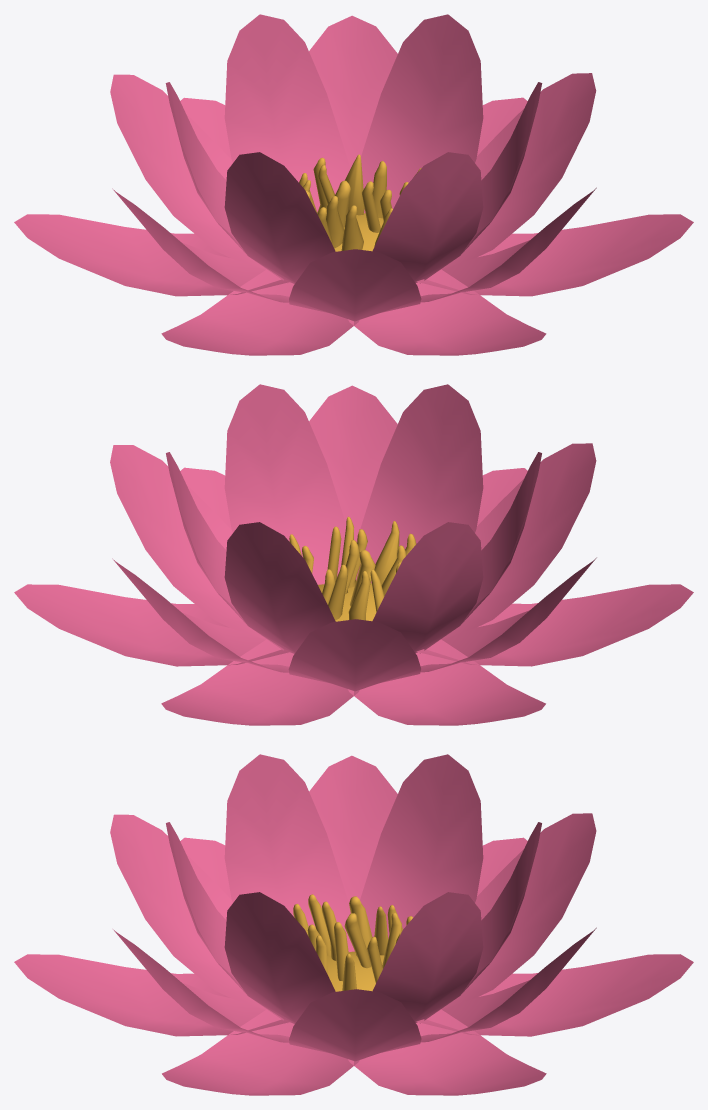
File: FlowerLilyPink.fbx
The picture shows the model from 3 angles, top to bottom: view 1: azimuth 30°, elevation 25°; view 2: azimuth 150°, elevation 25°; view 3: azimuth 270°, elevation 25°; orthographic projection.
Parts seen in each view (by area): view 1: Icosphere.005, Icosphere.001; view 2: Icosphere.005, Icosphere.001; view 3: Icosphere.005, Icosphere.001.
Part boxes in pixels (box(x1,y1,x2,y2)): Icosphere.005: box(14, 14, 693, 355); Icosphere.001: box(299, 154, 421, 251); Icosphere.005: box(14, 384, 693, 725); Icosphere.001: box(289, 516, 416, 621); Icosphere.005: box(14, 754, 693, 1095); Icosphere.001: box(293, 894, 412, 991).
Size of the model in its own units: 610 by 237 by 698.
